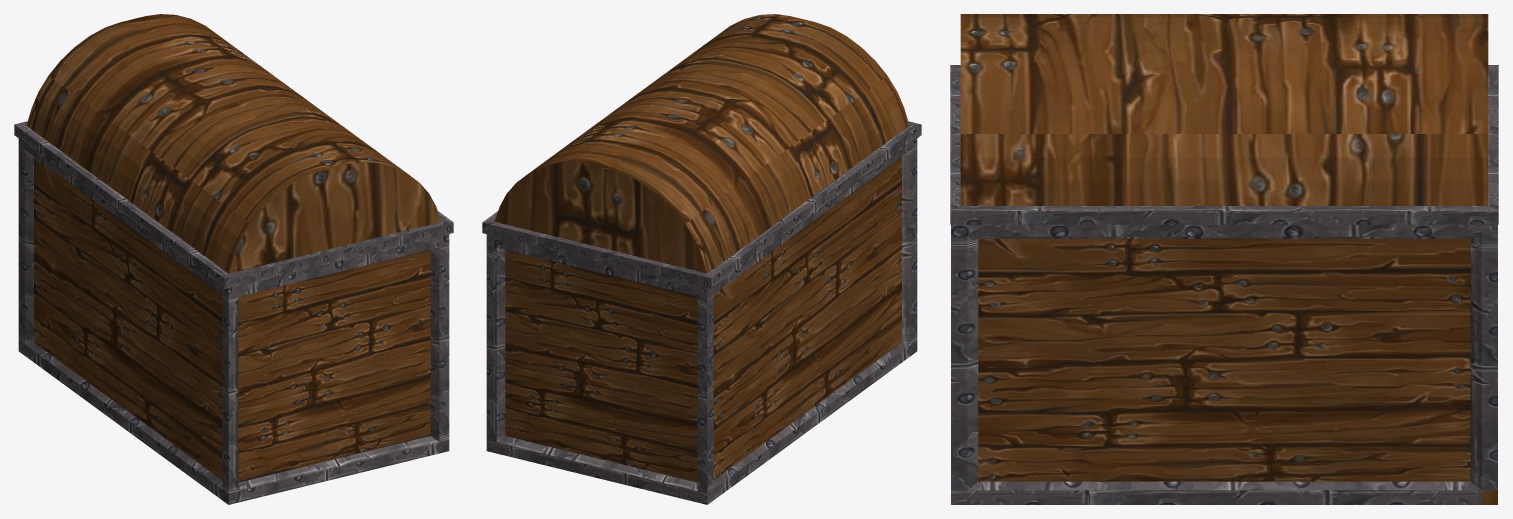
Rendered from Chest.fbx.
The picture shows the model from 3 angles, left to right: view 1: azimuth 30°, elevation 25°; view 2: azimuth 150°, elevation 25°; view 3: azimuth 270°, elevation 25°; orthographic projection. The views are drawn at different scales.
Parts seen in each view (by area): view 1: Chest; view 2: Chest; view 3: Chest.
Boxes of the visible parts, x1,y1,x2,y2 form: Chest: (14, 14, 453, 504); Chest: (482, 14, 921, 504); Chest: (950, 14, 1498, 504).
Bounding box in the file's own units: 183 × 235 × 291.
